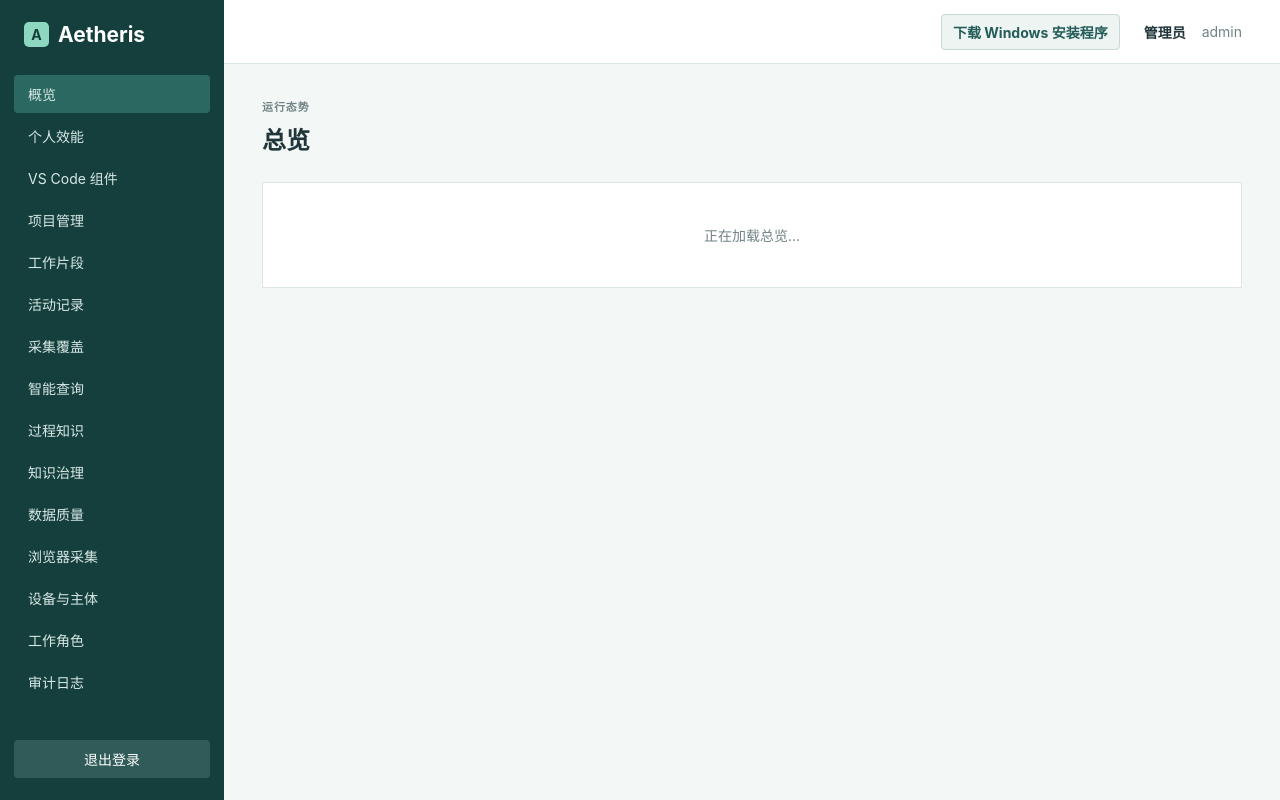
Test: Admin Web › 只提供统一活动记录入口并打开活动证据
Expected: the button "事件" is not shown
What coordinates should you click on to do the following:
click the button "活动记录"
I would click on:
 (112, 304)
Its box is [14, 285, 210, 323].
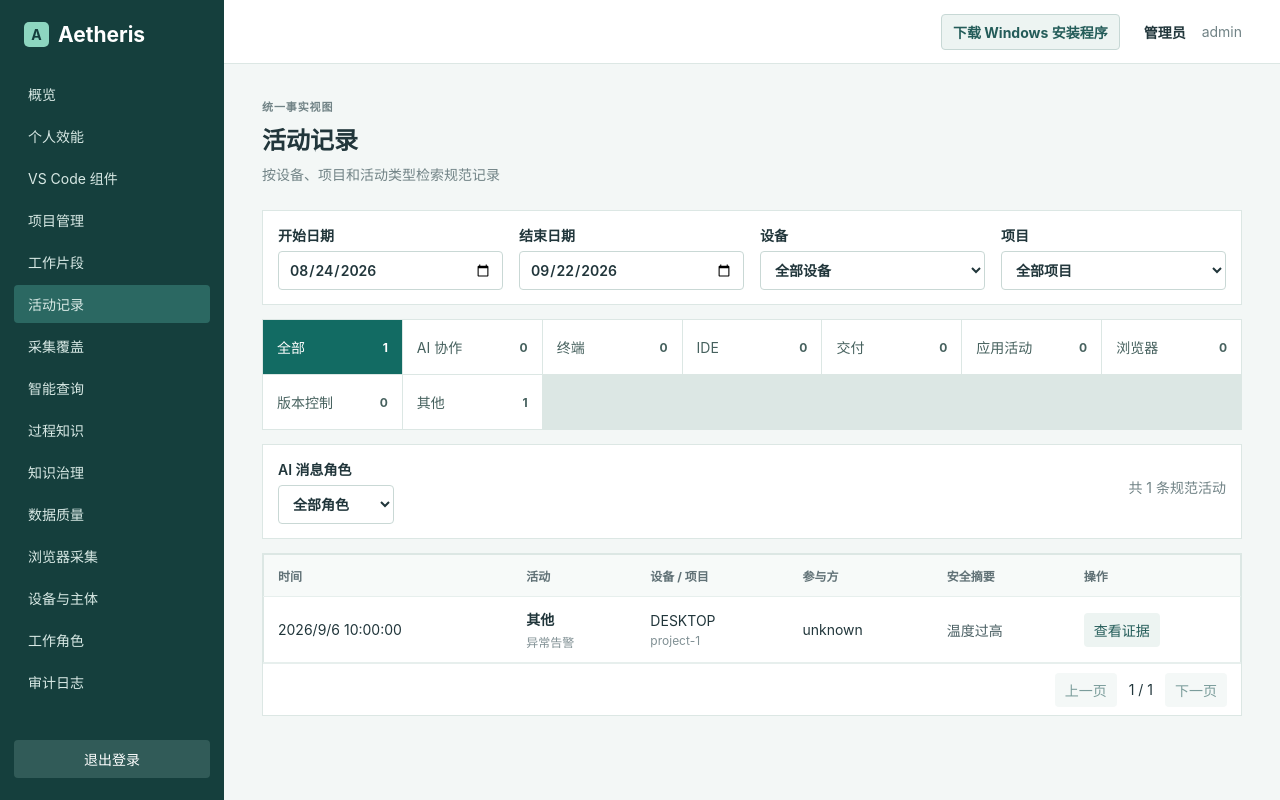
Expected: the text "异常告警" is shown, [526, 635, 574, 650]
What coordinates should you click on to do the following:
click the button "查看证据"
I would click on:
 (1122, 630)
Its box is [1084, 612, 1160, 646].
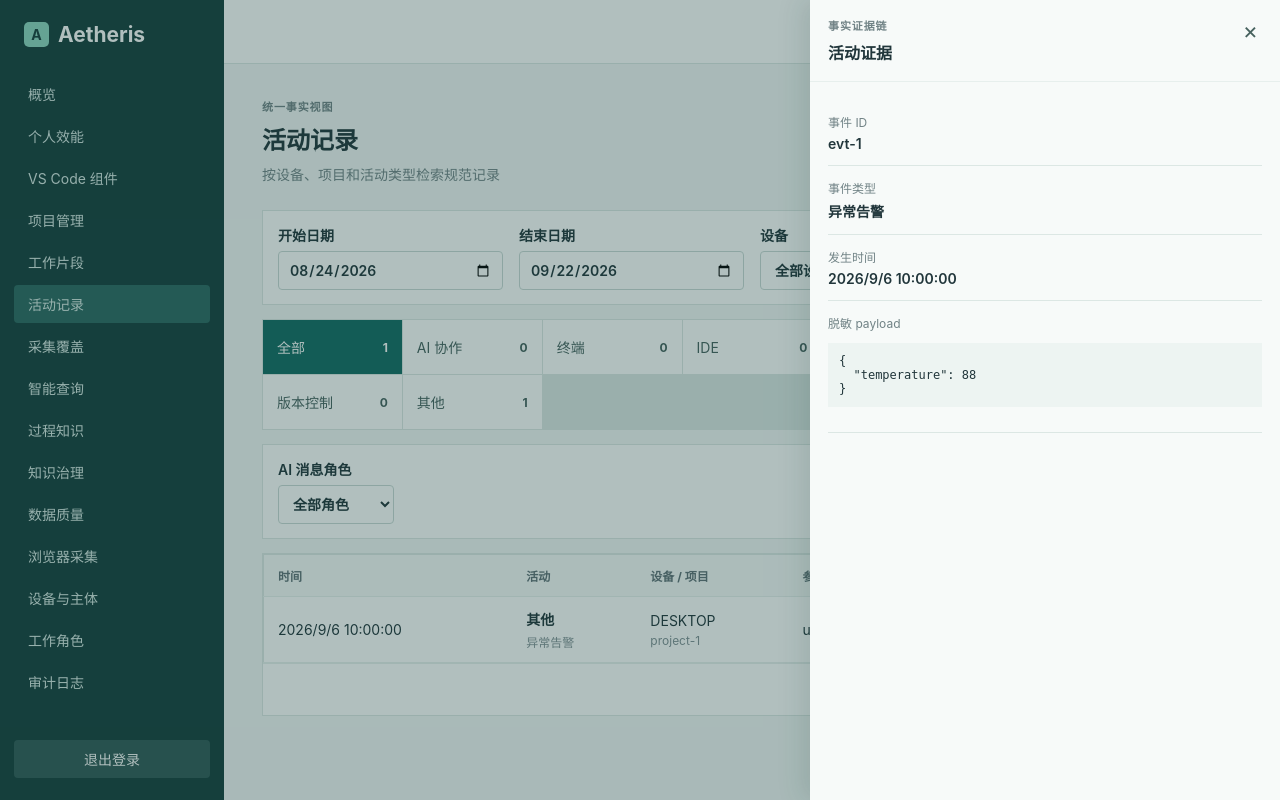
Expected: the text "脱敏 payload" is shown, [828, 316, 900, 331]
Expected: the element with class "drawer" is shown, [810, 0, 1279, 799]
